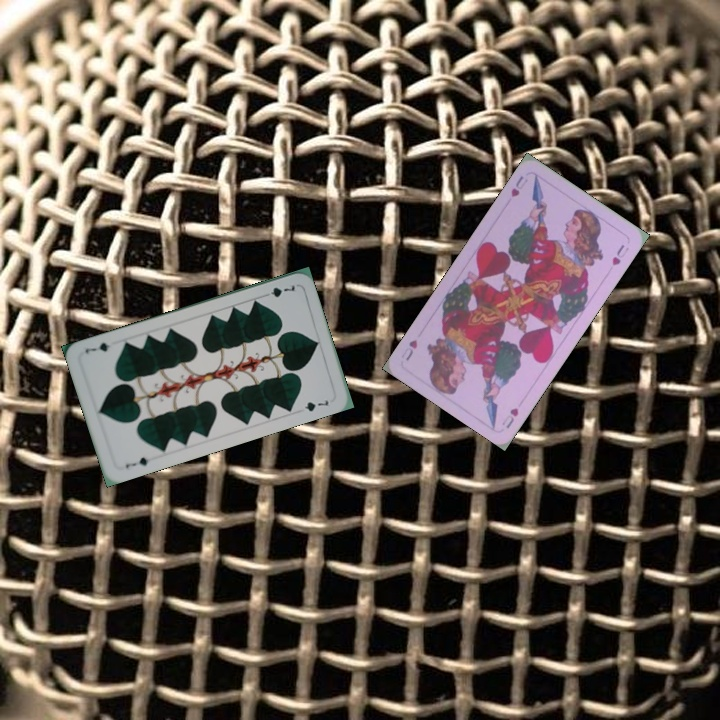G7: (258, 281, 297, 300), (122, 453, 151, 471)
HU: (507, 171, 530, 200), (498, 403, 521, 431)
